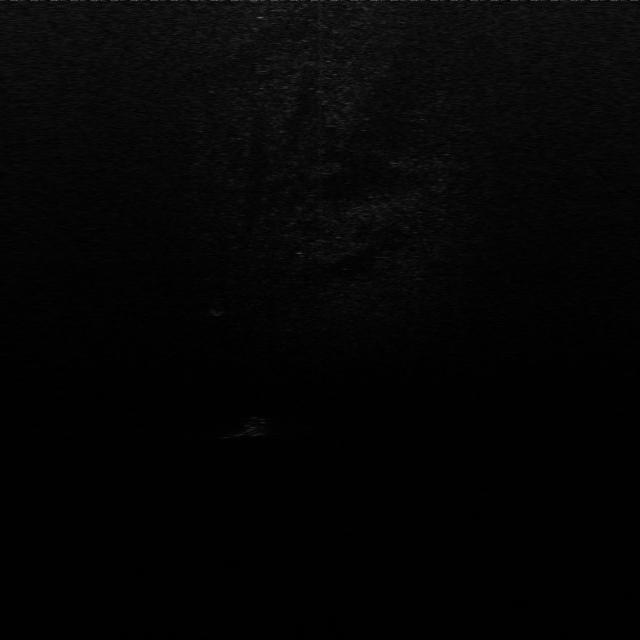ball: (208, 302, 227, 318)
circle cage: (236, 411, 273, 441)
